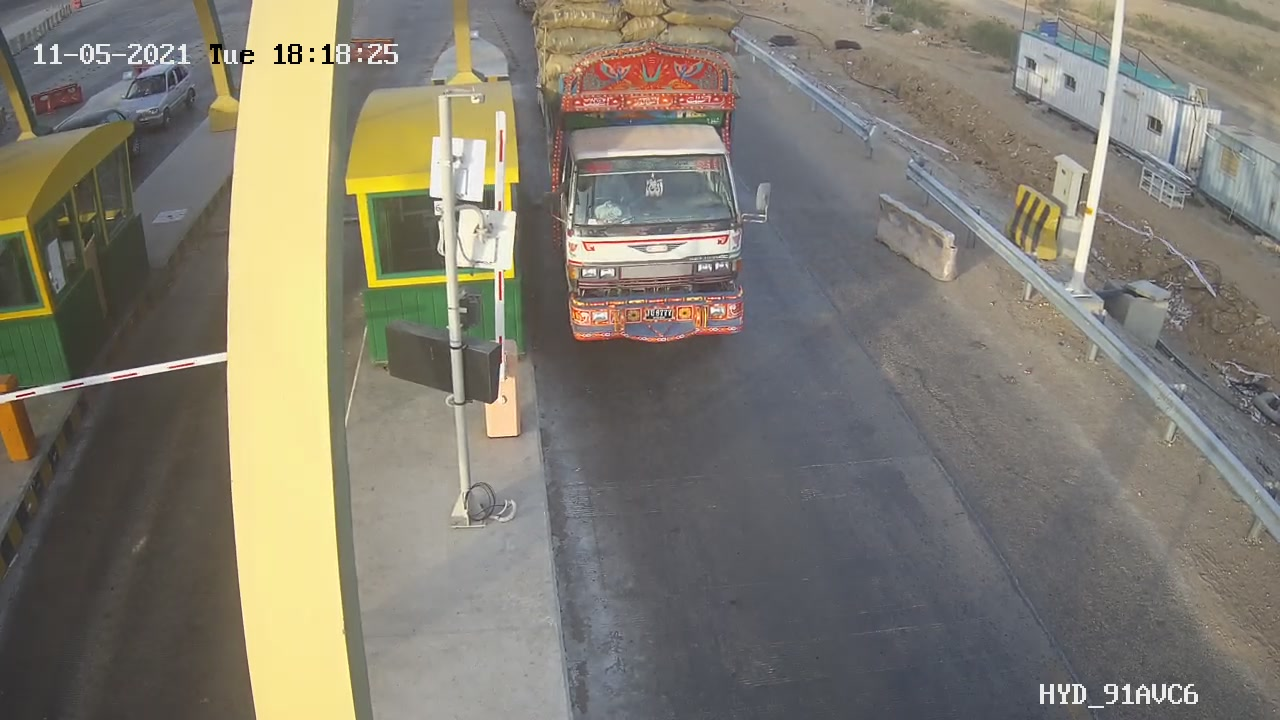F5: (525, 1, 761, 349)
